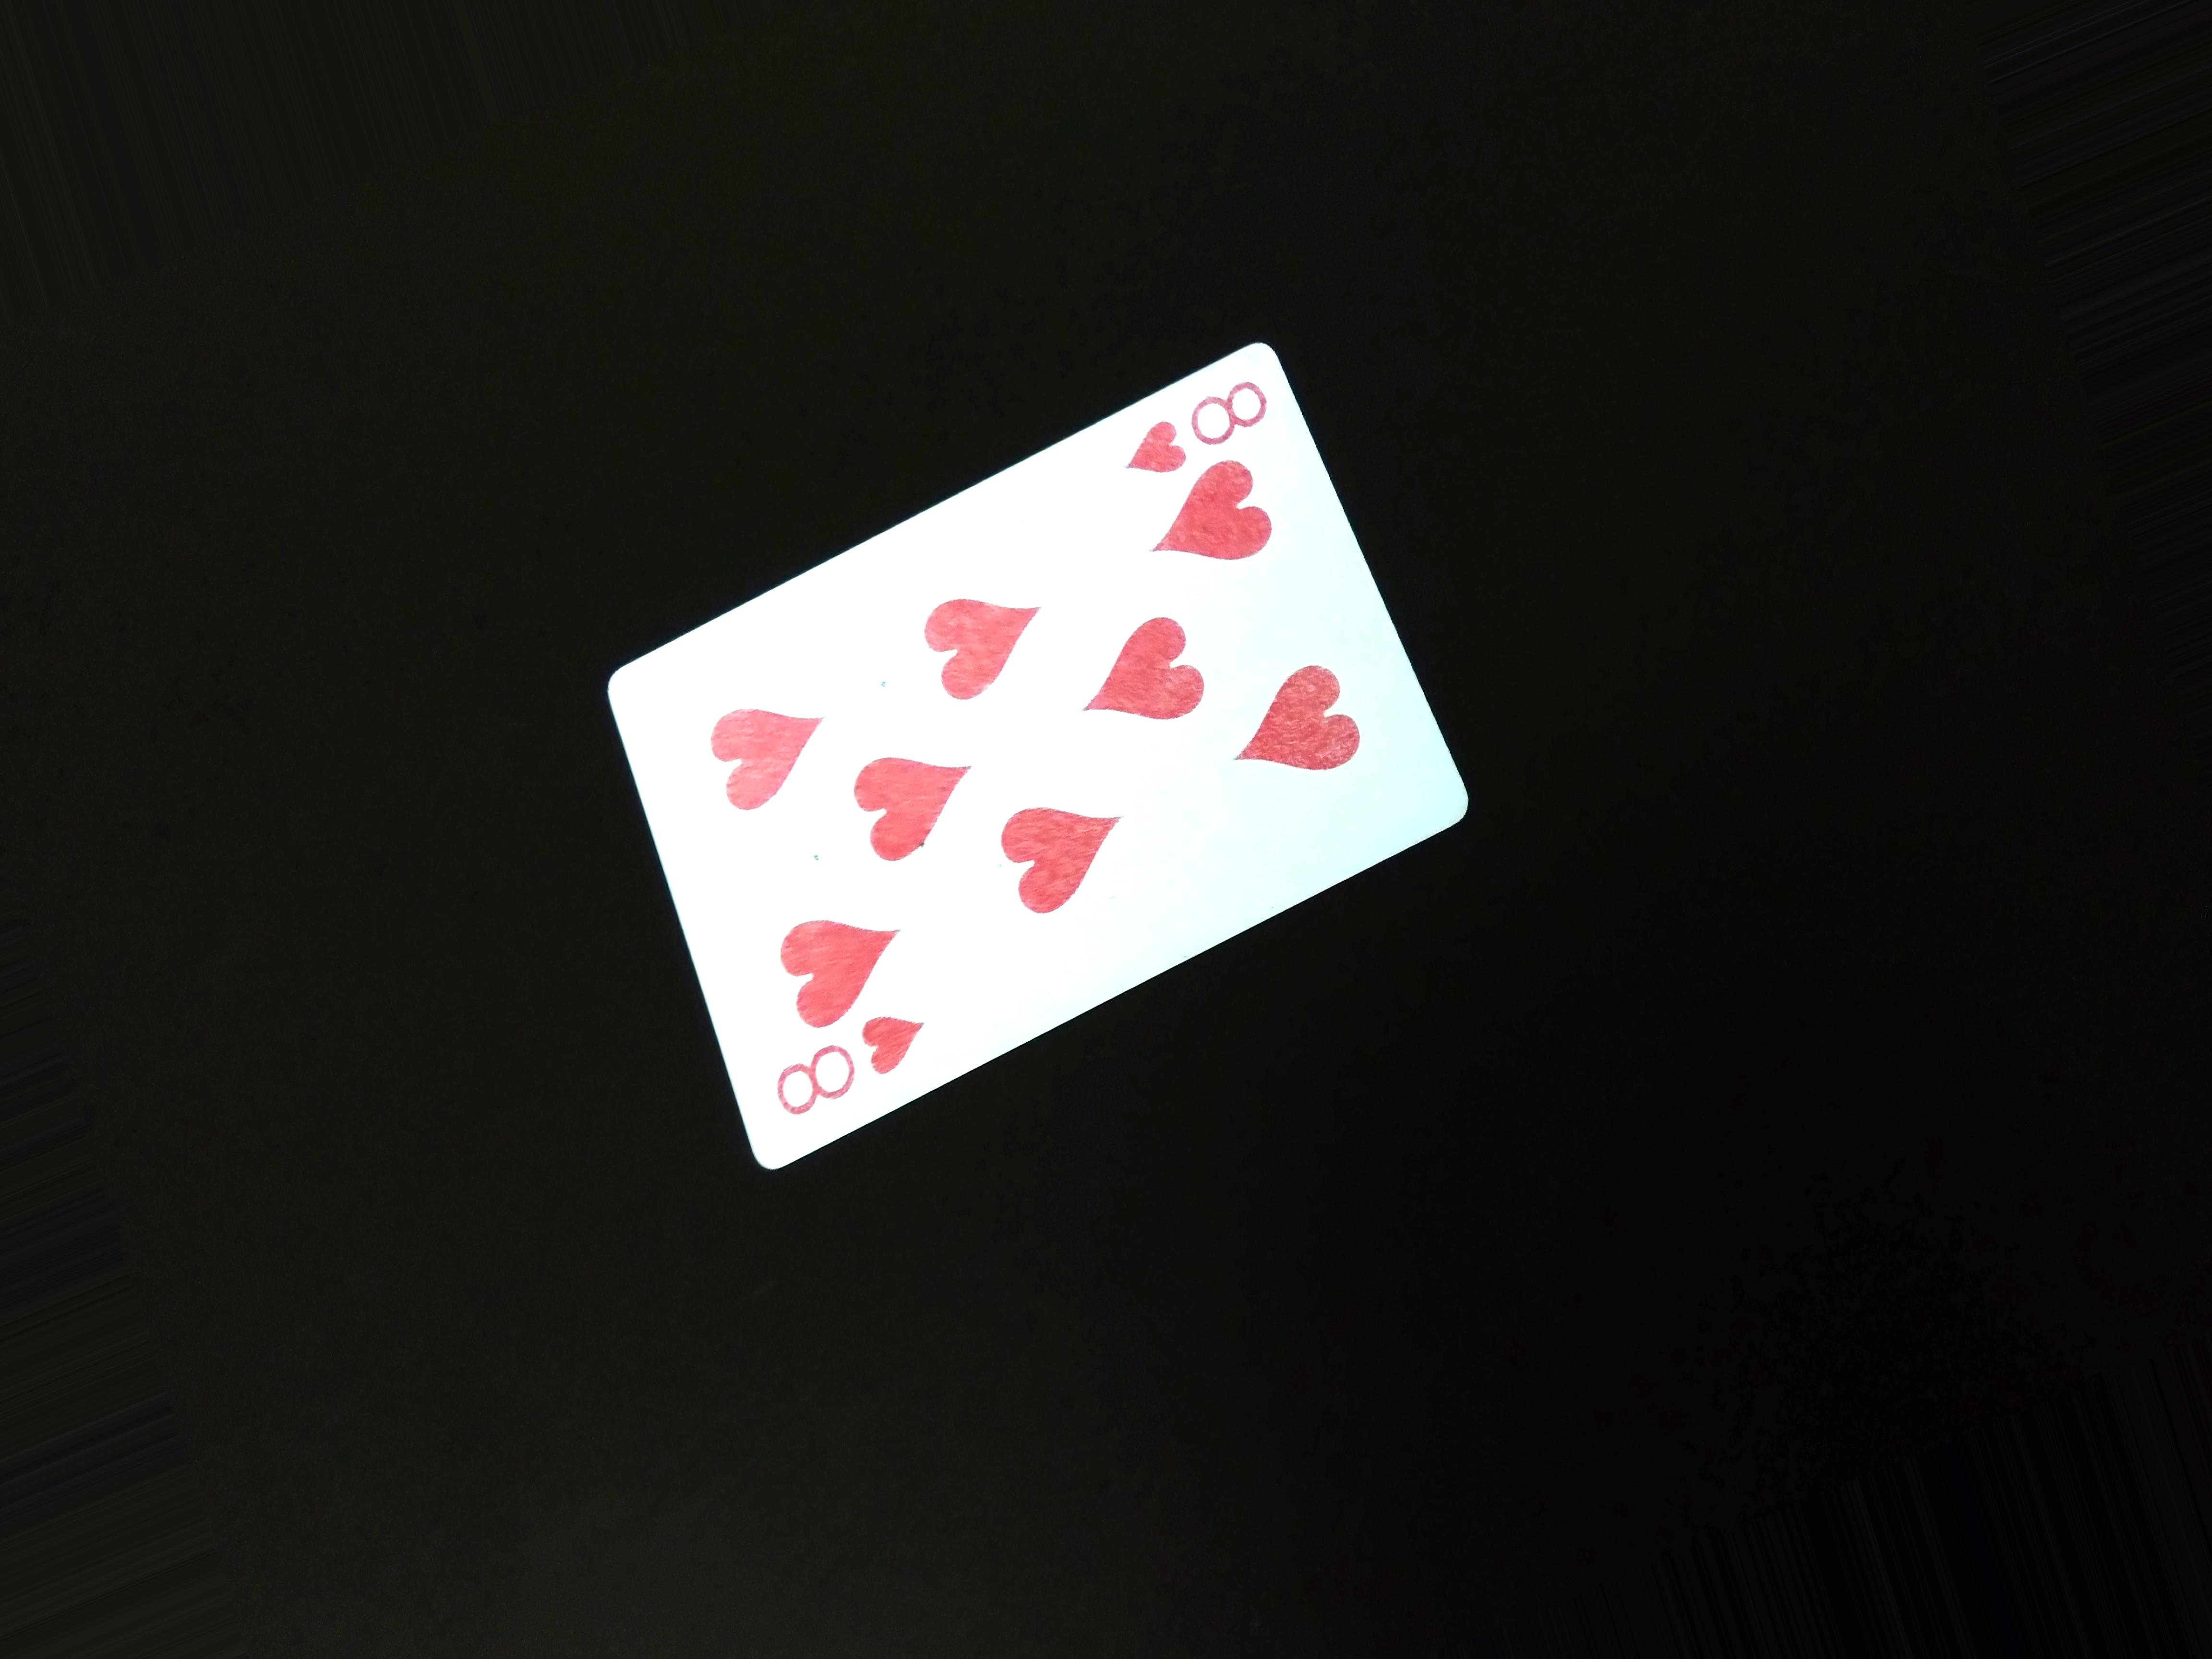8H: (1104, 369, 1270, 507)
